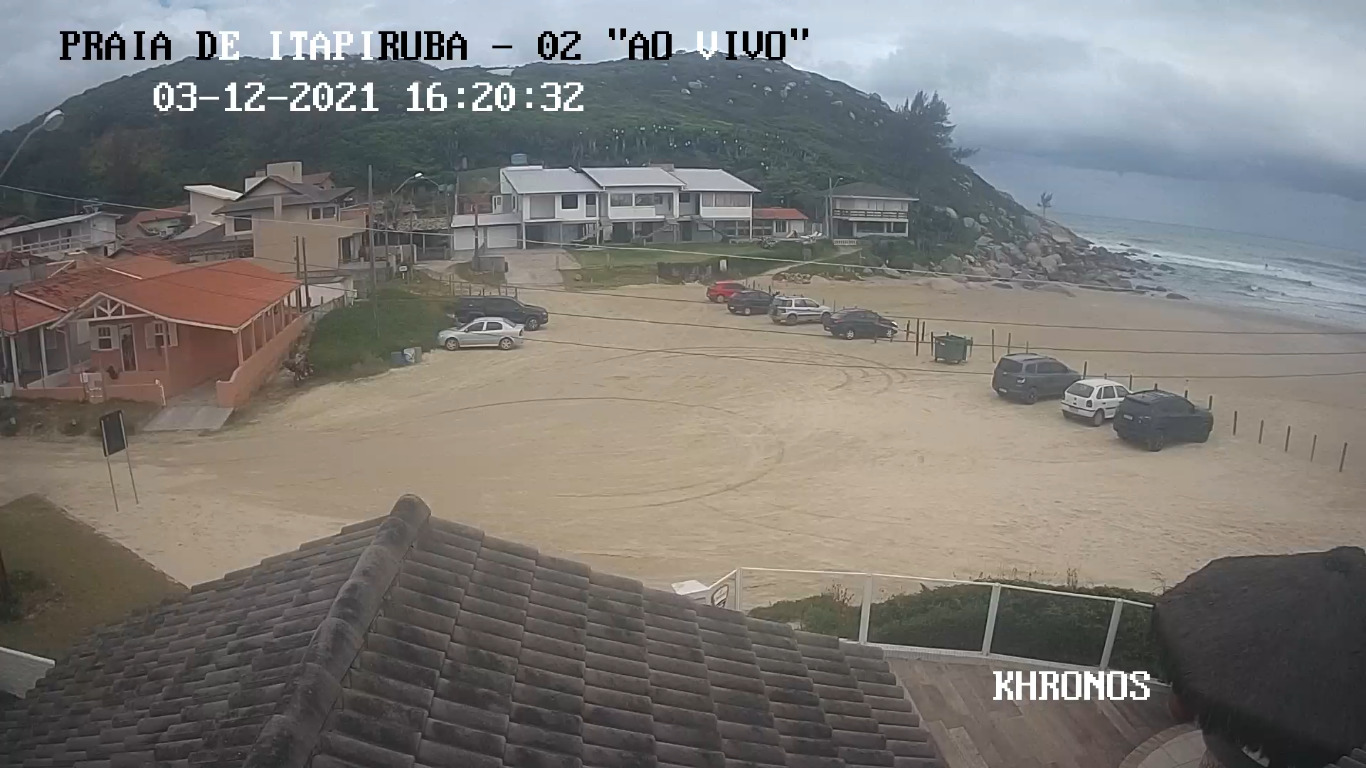car: (1111, 387, 1214, 454), (991, 351, 1083, 406), (1061, 377, 1152, 428), (453, 293, 550, 332), (435, 315, 526, 352), (822, 306, 900, 345), (770, 294, 834, 327), (725, 289, 787, 316), (704, 281, 758, 304)
